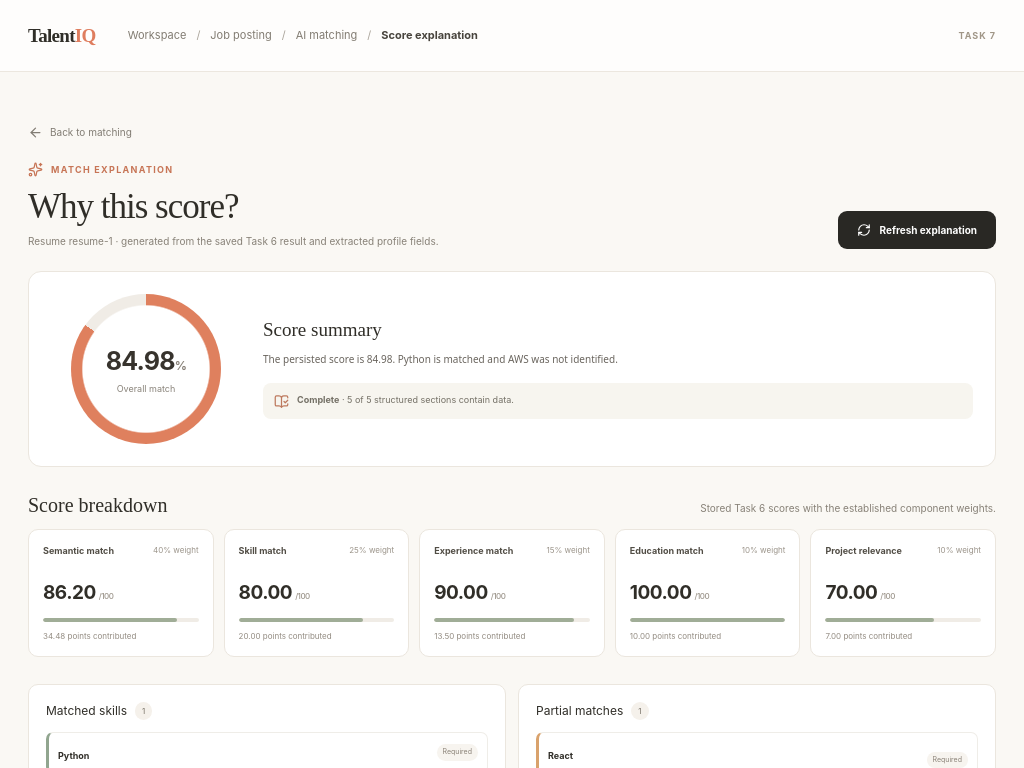
Test case: CandidateExplanationPage › refreshes the explanation from the saved match and updates the displayed score
The image size is (1024, 768).
Check: the text "84.98" is shown, box [106,346,175,376]
Step 1. Click the button "Refresh explanation" → click(917, 230), box [838,211,996,249]
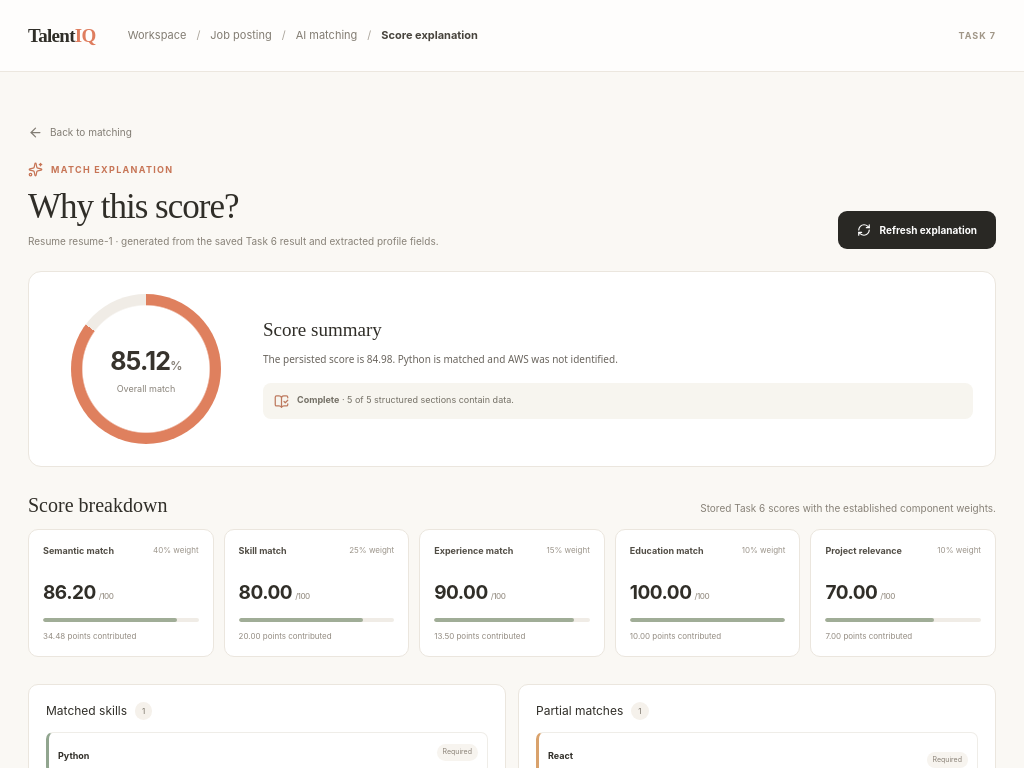
Check: the text "85.12" is shown, box [110,346,170,376]
